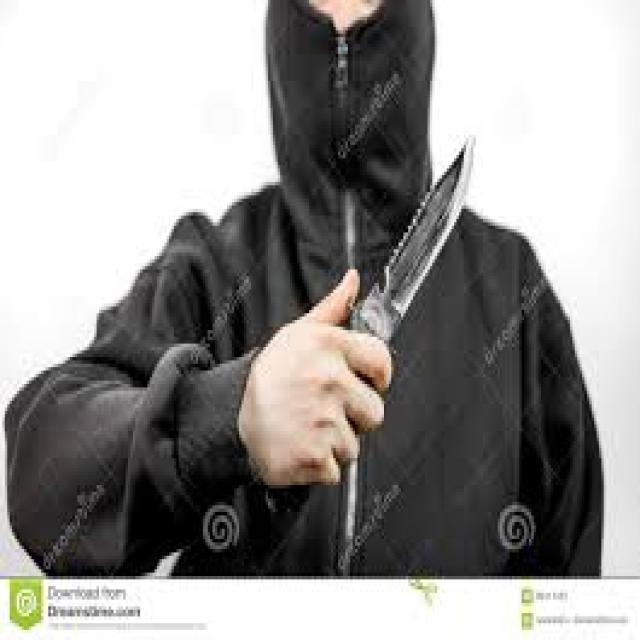faca: (230, 138, 496, 482)
